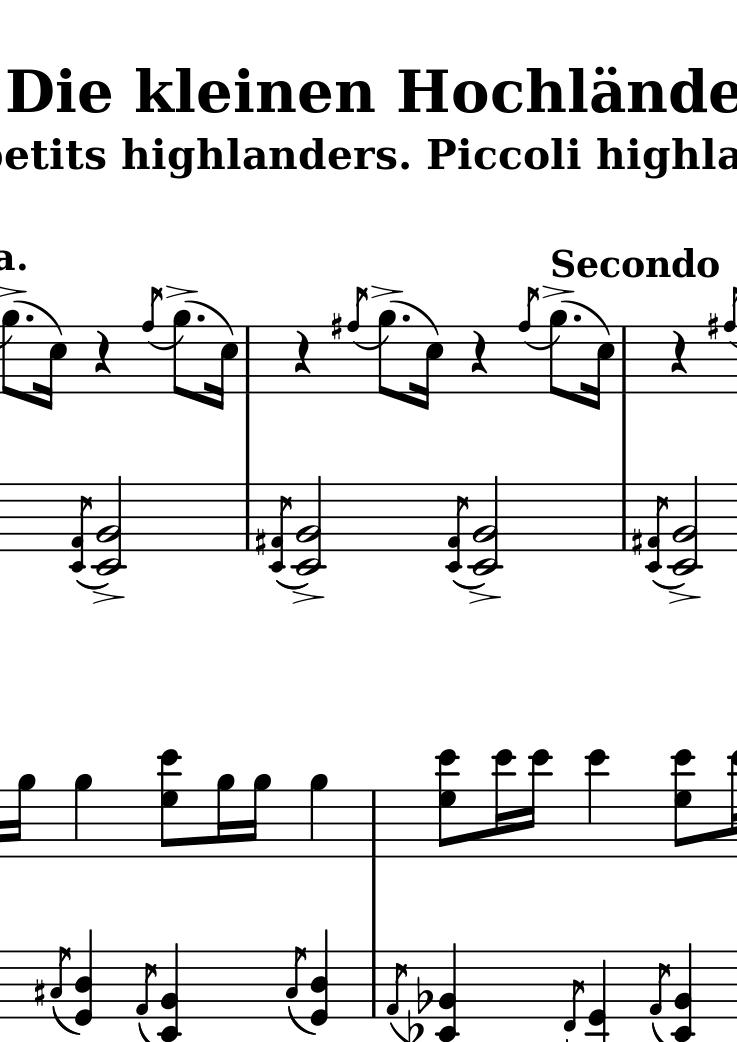16_12: (521, 747, 551, 860), (492, 747, 514, 859)
16_5: (206, 326, 240, 412), (583, 325, 616, 412), (37, 325, 69, 412), (412, 326, 444, 412)
16_9: (6, 772, 35, 860), (244, 773, 273, 860), (215, 772, 235, 860)
2_-2_2: (91, 475, 128, 578), (291, 475, 328, 578), (467, 475, 504, 578), (668, 475, 705, 578)
4_-2_2: (158, 943, 182, 1042), (436, 943, 460, 1042), (671, 943, 695, 1042)
4_0_4: (74, 929, 96, 1028), (308, 929, 330, 1028)
4_12: (585, 748, 610, 860)
4_9: (307, 772, 330, 859), (72, 772, 94, 859)
8_7_12: (155, 749, 182, 860), (434, 749, 461, 860), (671, 748, 698, 859)
8_9: (376, 307, 397, 399), (171, 308, 192, 398), (548, 308, 568, 399), (2, 310, 20, 402)
Accent_above: (91, 589, 126, 604), (467, 590, 501, 605), (164, 284, 199, 298), (370, 284, 405, 298), (291, 589, 323, 604), (541, 285, 575, 299), (669, 591, 702, 605), (1, 285, 28, 296)
Acciaccature: (643, 483, 672, 579), (267, 483, 293, 575), (518, 287, 540, 395), (141, 285, 162, 396), (346, 284, 367, 394), (66, 482, 91, 572), (446, 484, 470, 574), (564, 950, 585, 1035), (286, 945, 308, 1021), (387, 949, 408, 1020), (50, 945, 69, 1021), (651, 951, 672, 1019), (137, 951, 156, 1018)
Flat: (415, 975, 432, 1015)
Rests4: (90, 329, 115, 377), (290, 329, 315, 377), (468, 329, 491, 377), (668, 329, 689, 376)
Sharp: (328, 311, 344, 343), (31, 976, 47, 1008), (251, 526, 267, 557), (628, 526, 644, 557), (705, 312, 719, 343)
Single_barline: (364, 789, 383, 856), (239, 484, 256, 549), (365, 952, 382, 1017), (238, 329, 255, 393), (615, 329, 632, 392), (616, 484, 632, 549)
Slur: (184, 299, 234, 337), (13, 299, 64, 335), (390, 299, 439, 336), (561, 299, 611, 335), (285, 1004, 317, 1035), (51, 1005, 81, 1034), (351, 335, 391, 352), (146, 334, 183, 351), (524, 336, 559, 352), (650, 579, 687, 590), (276, 580, 309, 591), (77, 580, 110, 591), (451, 581, 486, 591)
dot: (23, 312, 36, 324), (195, 311, 207, 324), (401, 311, 413, 324), (572, 312, 583, 324)
